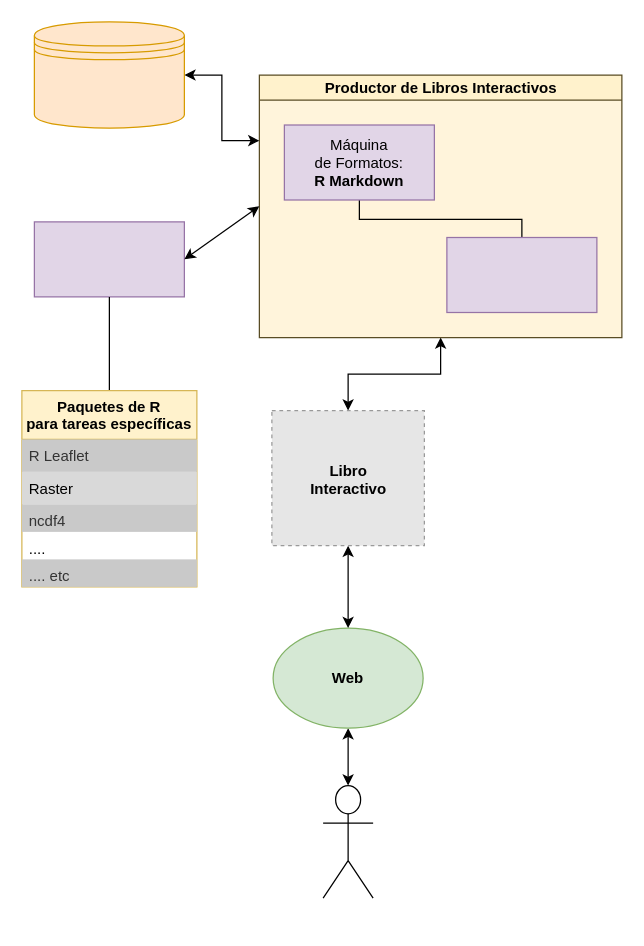
Some shapes in this 644 by 946 pixel diagram are drawn without their labels. Grey dashed boxes stand in for pictures. The shapes that lost their labels are listed below. From the top down, each one's centre as x and y in pixels, then its label:
At point 108,74: "Fuentes de Información".
At point 108,259: "Máquina Computacional: Lenguaje R".
At point 521,274: "Máquina de Interacciones: Shiny Server".
At point 347,841: "Usuario".
